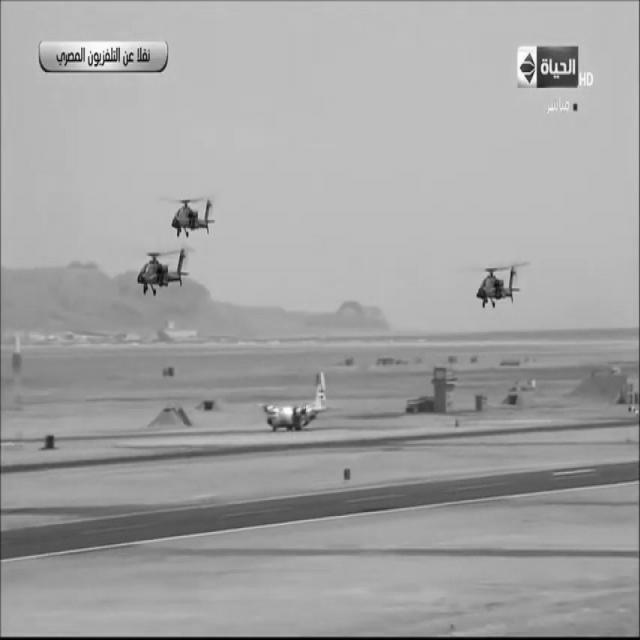helikopter: (462, 238, 538, 320), (129, 243, 209, 310), (167, 187, 216, 234)
